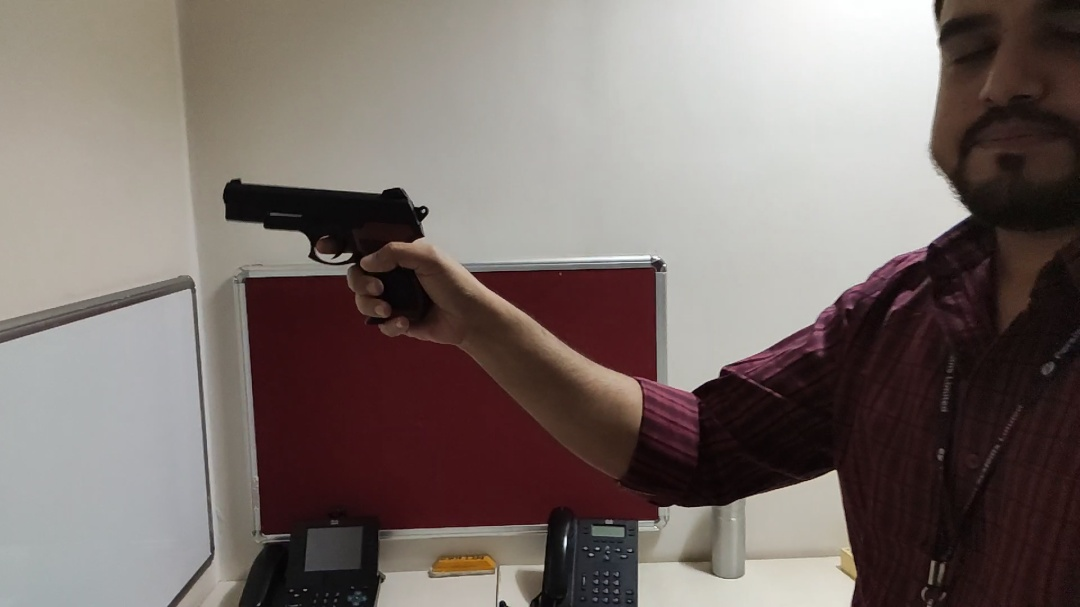gun: (221, 172, 440, 327)
